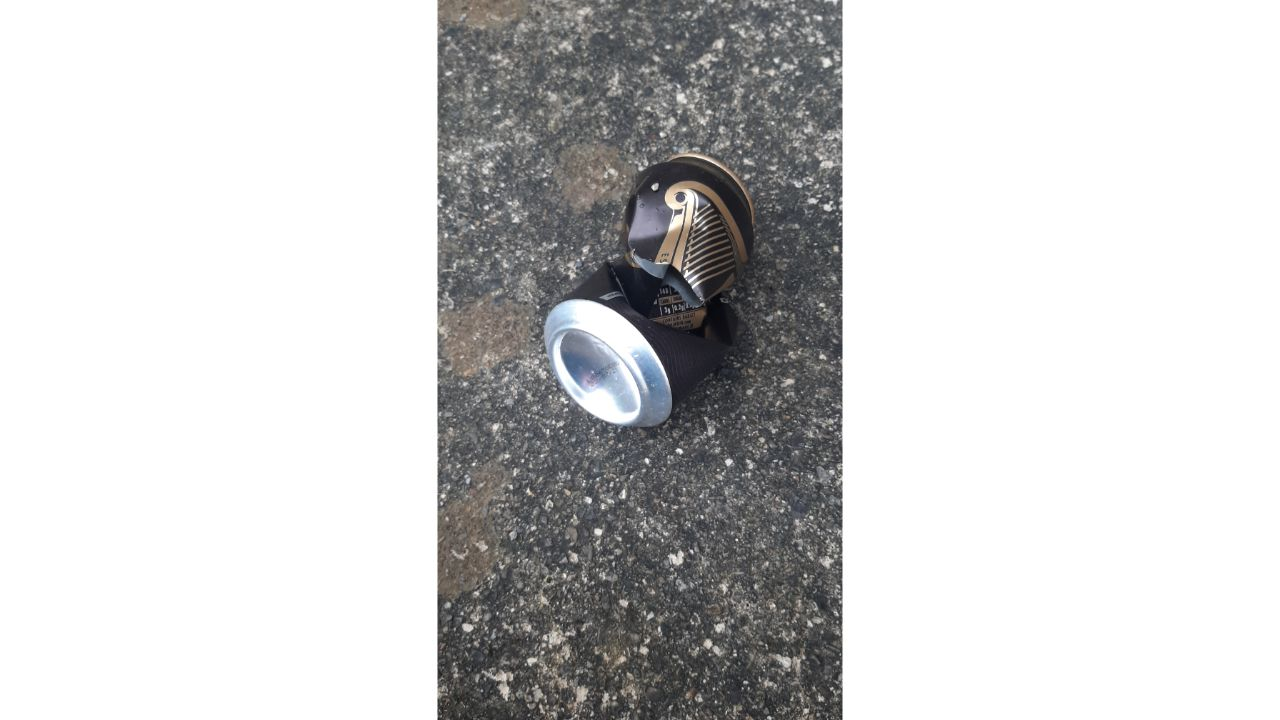Can: (541, 153, 756, 428)
